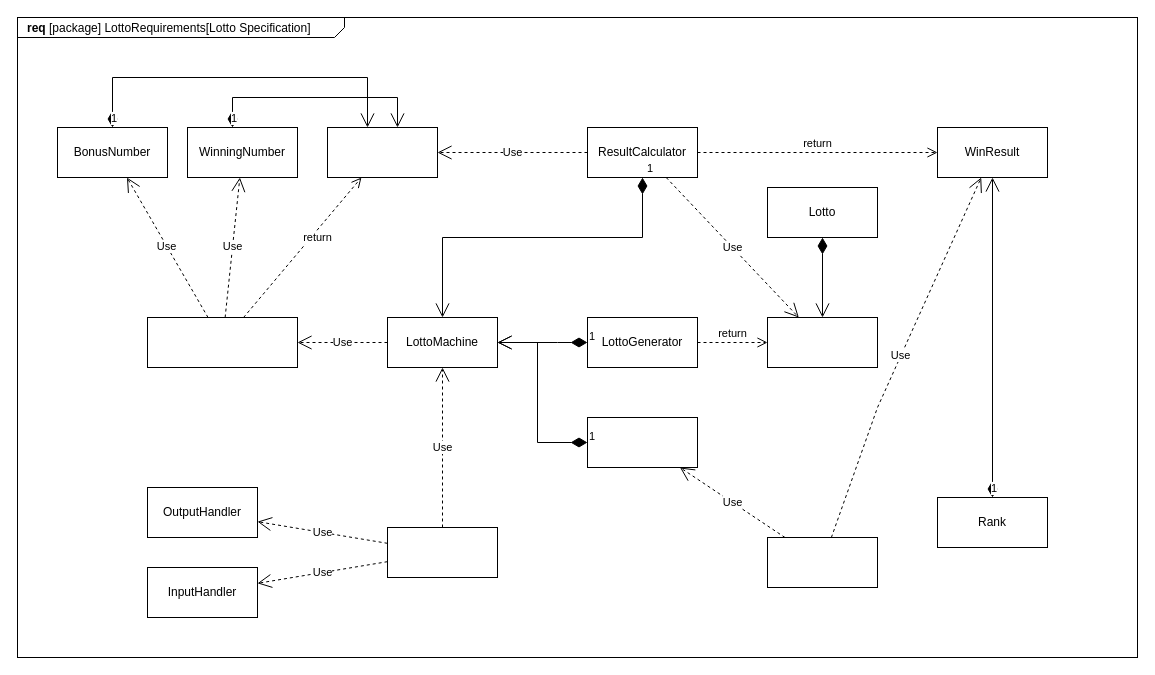
Image size: 1155x675. Some labels were removed from this diagram. The shapes that lost their labels are listed below. From the top down, each one's centre as x and y in pixels, then its label:
[382,152]: WinningNumbers
[222,342]: WinningNumbersFactory
[822,342]: Lotties
[642,442]: Money
[442,552]: LottoApplication
[822,562]: Statistics
